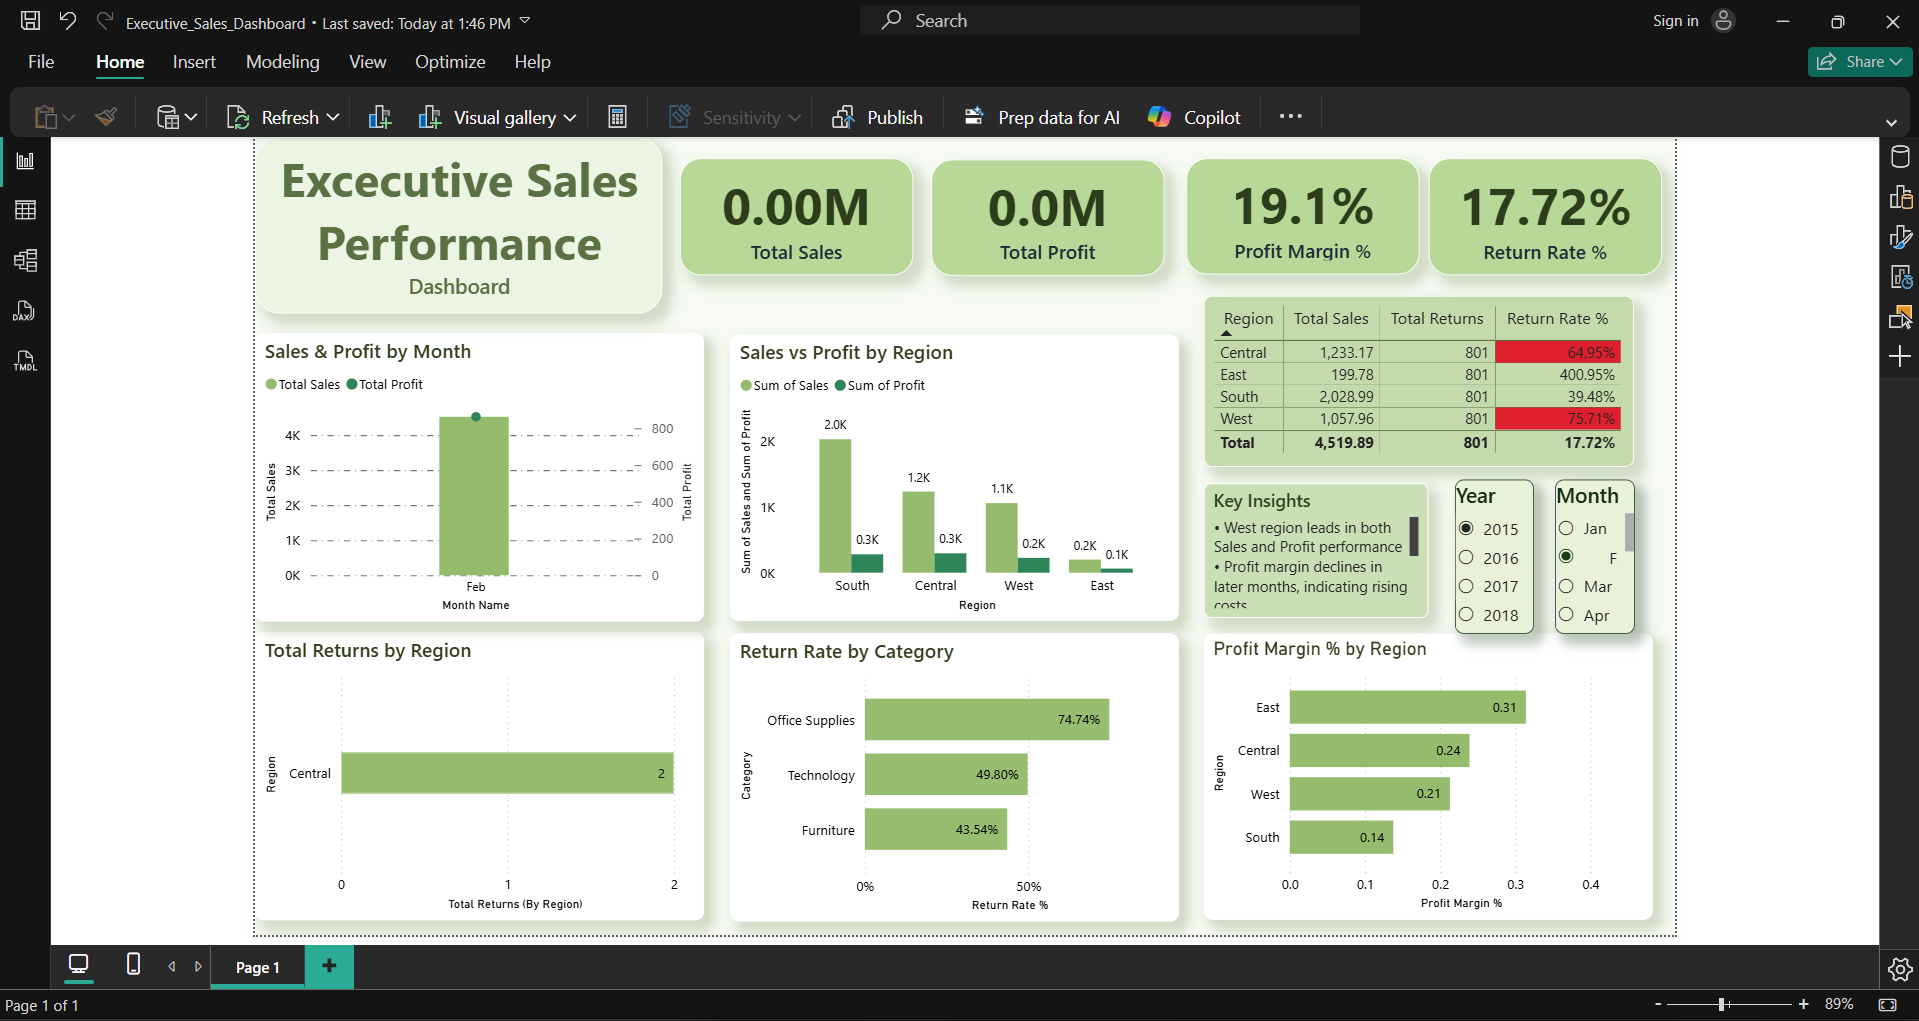

What the dashboard file says about the page in this screenshot:
{"tool":"powerbi","page":{"name":"Page 1","canvas":[1280,720],"ordinal":0},"visuals":[{"type":"clusteredBarChart","title":"Total Returns by Region","fields":{"Category":["Fact_Sales.Region"],"Y":["Fact_Returns.Total Returns (By Region)"]},"box":[0,446.6,404.9,260.2],"z":0},{"type":"tableEx","fields":{"Values":["Fact_Sales.Region","Dim_RegionManager.Total Sales","Dim_RegionManager.Total Returns","Dim_RegionManager.Return Rate %"]},"box":[855.8,143.1,388.1,154.3],"z":1000},{"type":"card","title":"Total Sales","fields":{"Values":["Dim_RegionManager.Total Sales"]},"box":[383.1,18.7,210.2,105.7],"z":2000},{"type":"card","title":"Total Profit","fields":{"Values":["Fact_Sales.Total Profit"]},"box":[609.5,19.9,210.2,104.5],"z":3000},{"type":"card","title":"Profit Margin","fields":{"Values":["Fact_Sales.Profit Margin %"]},"box":[839.7,18.7,210.2,104.5],"z":4000},{"type":"card","title":"Return Rate","fields":{"Values":["Dim_RegionManager.Return Rate %"]},"box":[1058.6,18.7,210.2,105.7],"z":5000},{"type":"clusteredColumnChart","title":"Sales vs Profit by Region","fields":{"Category":["Fact_Sales.Region"],"Y":["Sum(Fact_Sales.Sales)","Sum(Fact_Sales.Profit)"]},"box":[428.5,178.1,404.9,258.8],"z":8000},{"type":"clusteredBarChart","title":"Return Rate by Category","fields":{"Category":["Fact_Sales.Category"],"Y":["Dim_RegionManager.Return Rate %"]},"box":[428.5,448,404.9,260.2],"z":9000},{"type":"lineClusteredColumnComboChart","title":"Sales & Profit by Month","fields":{"Category":["Dim_Date.Month Name"],"Y":["Dim_RegionManager.Total Sales"],"Y2":["Fact_Sales.Total Profit"]},"box":[0,176.7,404.9,260.2],"z":10000},{"type":"textbox","title":"Excecutive Sales Performance ","box":[0,0,367,159.2],"z":11000},{"type":"clusteredBarChart","fields":{"Y":["Fact_Sales.Profit Margin %"],"Category":["Fact_Sales.Region"]},"box":[855.7,448,404.9,258.8],"z":13000},{"type":"textbox","title":"Key Insights","box":[855.8,312.2,202.8,121.9],"z":14000},{"type":"listSlicer","fields":{"Values":["Dim_Date.Year"]},"box":[1082.2,308.5,70.9,139.3],"z":14001},{"type":"listSlicer","title":"Month ","fields":{"Values":["Dim_Date.Month Name"]},"box":[1171.8,308.5,72.1,139.3],"z":14002}]}

Visuals, with their boxes on the page's 1280x720 design canvas (x1, y1, x2, y2). These are canvas units, not pixel positions in the 1919x1021 screenshot, which may show the page scaled, cropped or inside an application window:
"Total Returns by Region" clusteredBarChart: 0, 447, 405, 707
tableEx - Fact_Sales.Region x Dim_RegionManager.Total Sales: 856, 143, 1244, 297
"Total Sales" card: 383, 19, 593, 124
"Total Profit" card: 610, 20, 820, 124
"Profit Margin" card: 840, 19, 1050, 123
"Return Rate" card: 1059, 19, 1269, 124
"Sales vs Profit by Region" clusteredColumnChart: 428, 178, 833, 437
"Return Rate by Category" clusteredBarChart: 428, 448, 833, 708
"Sales & Profit by Month" lineClusteredColumnComboChart: 0, 177, 405, 437
"Excecutive Sales Performance " textbox: 0, 0, 367, 159
clusteredBarChart - Fact_Sales.Profit Margin % x Fact_Sales.Region: 856, 448, 1261, 707
"Key Insights" textbox: 856, 312, 1059, 434
listSlicer - Dim_Date.Year: 1082, 308, 1153, 448
"Month " listSlicer: 1172, 308, 1244, 448
